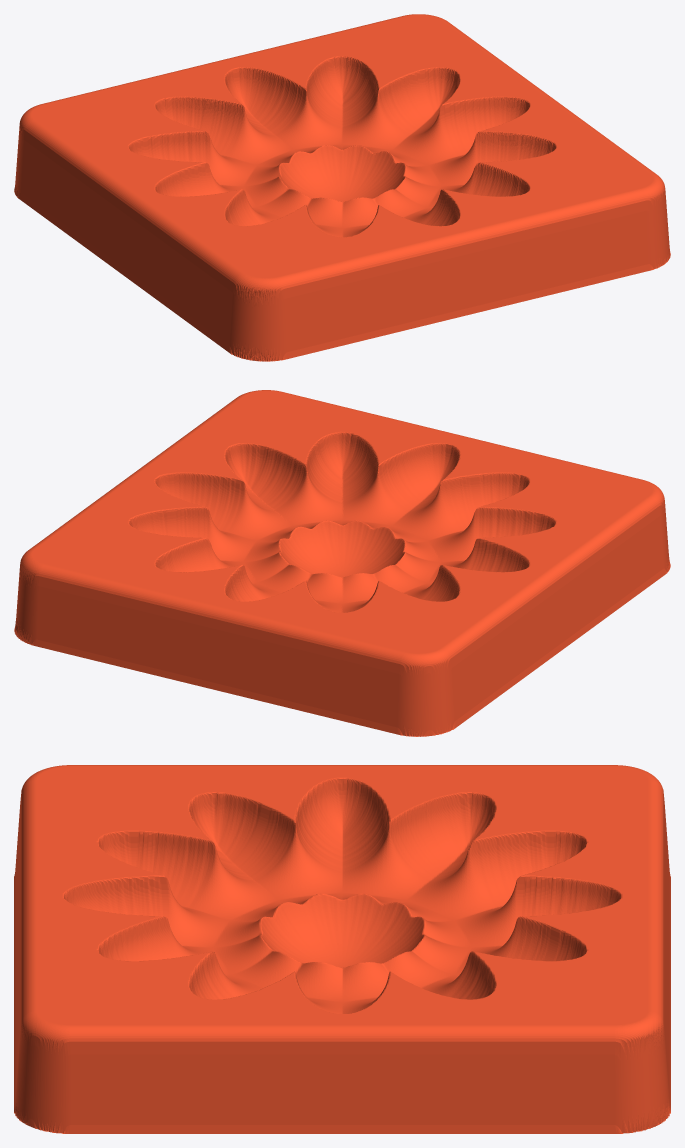
Rendered from mold.glb.
3 views of the same model, one above another, from view 1: azimuth 30°, elevation 25°; view 2: azimuth 150°, elevation 25°; view 3: azimuth 270°, elevation 25° (orthographic). The views are drawn at different scales.
Parts seen in each view (by area): view 1: geometry_0; view 2: geometry_0; view 3: geometry_0.
Boxes of the visible parts, x1=… form: geometry_0: x1=14, y1=14, x2=670, y2=361; geometry_0: x1=14, y1=390, x2=670, y2=736; geometry_0: x1=14, y1=765, x2=670, y2=1133.
Size of the model in its own units: 0.105 by 0.0175 by 0.105.
